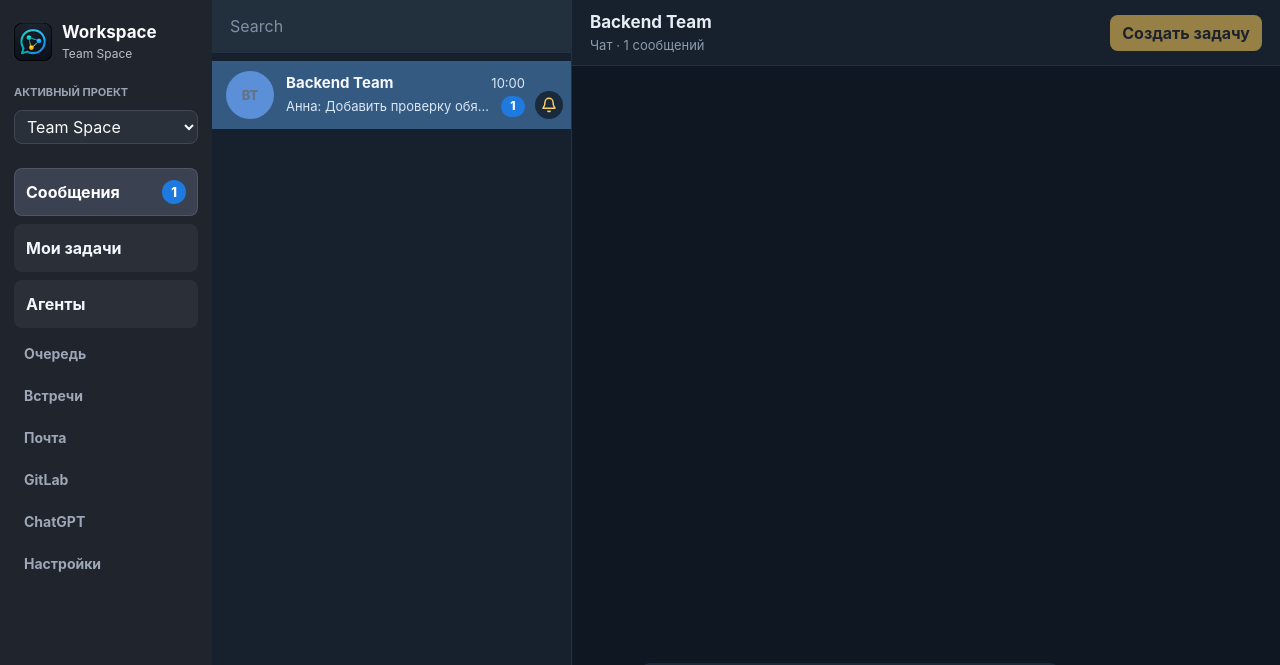
Test: App › renders plain Redmine descriptions with Markdown sections and lists
The width and height of the screenshot is (1280, 665).
Click the button "Мои задачи" at (106, 248), box [14,224,198,272]
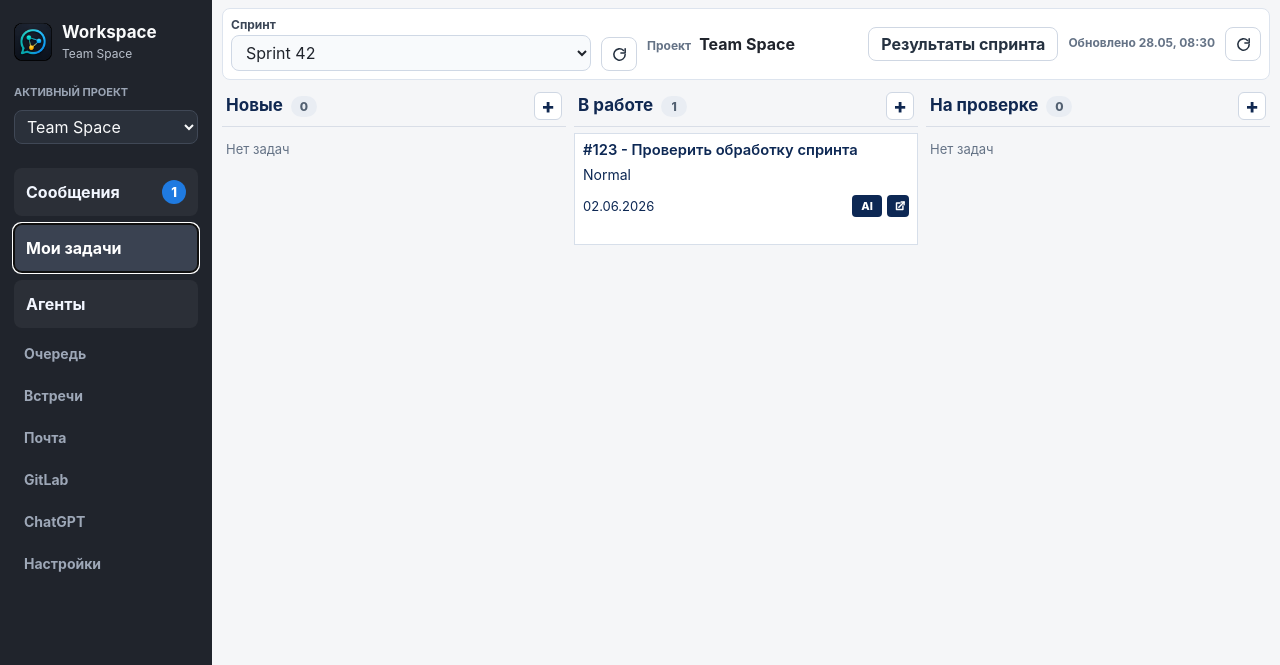
Now the heading "#123 - Проверить обработку спринта" is shown, box [583,142,901,160]
Click the button with aria-label "Открыть карточку задачи #123 в приложении" at (745, 150), box [574,133,918,245]
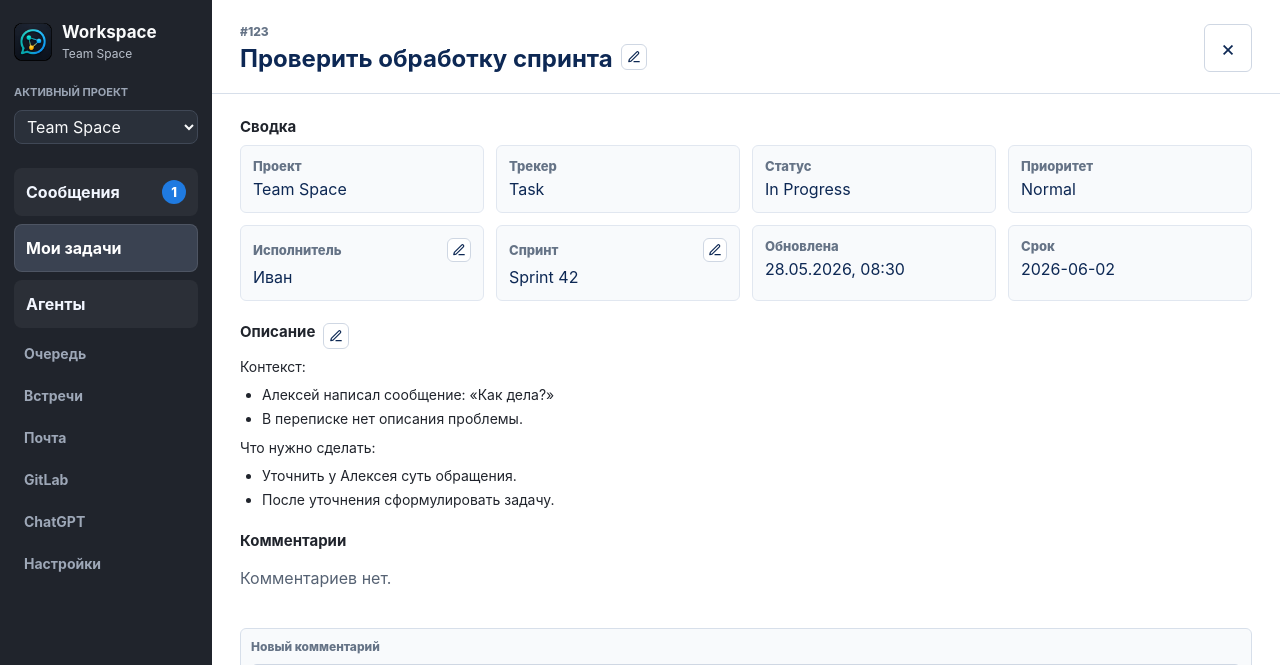
Now the text "Контекст:" is shown, box [240,358,306,375]
Now the list item "Алексей написал сообщение: «Как дела?»" is shown, box [262,386,554,403]
Now the list item "Уточнить у Алексея суть обращения." is shown, box [262,467,517,484]
